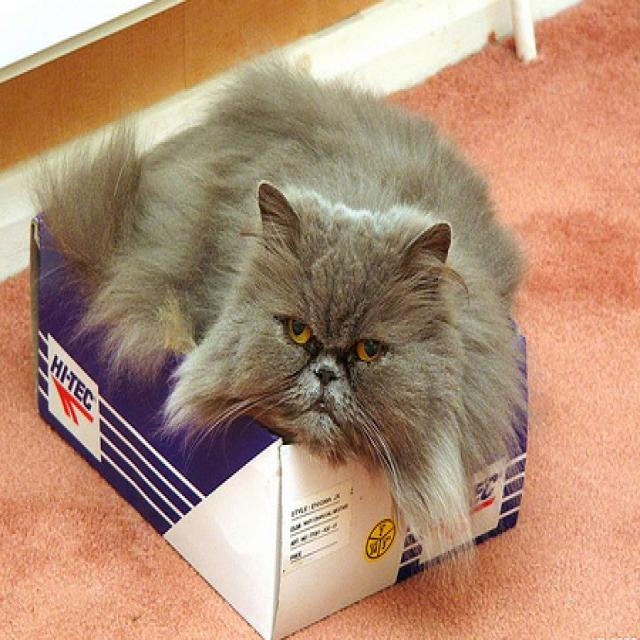Persian: (31, 58, 525, 578)
